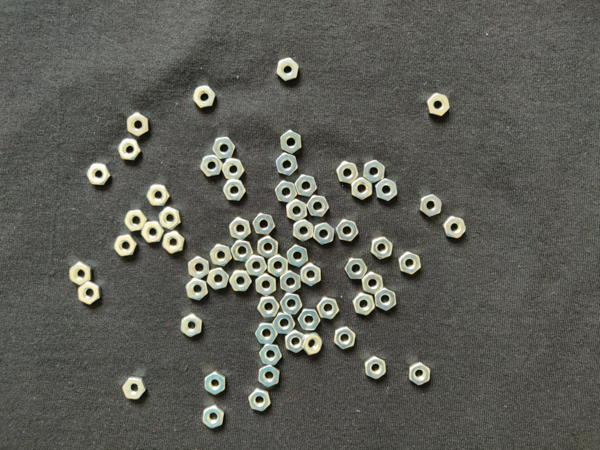nut: (123, 377, 147, 400), (427, 93, 451, 116), (398, 252, 422, 275), (78, 282, 101, 305), (162, 231, 185, 254), (193, 85, 216, 108), (248, 389, 271, 412), (336, 220, 359, 243), (336, 161, 359, 184), (375, 179, 398, 202), (70, 262, 92, 286), (87, 164, 111, 186), (141, 222, 165, 244), (230, 240, 254, 262), (276, 153, 298, 177), (409, 362, 431, 386), (363, 160, 385, 184), (443, 217, 467, 239), (203, 405, 224, 430), (114, 235, 137, 257), (118, 139, 141, 161), (125, 209, 148, 231), (180, 315, 202, 338), (186, 278, 208, 301), (188, 256, 210, 279), (200, 155, 223, 177), (222, 158, 245, 180), (223, 180, 246, 202), (207, 268, 230, 290), (210, 245, 233, 267), (229, 270, 252, 292), (245, 255, 268, 277), (281, 293, 303, 316), (273, 313, 296, 335), (298, 309, 321, 331), (277, 58, 299, 81), (275, 181, 298, 203), (313, 223, 335, 246), (317, 298, 340, 320), (334, 327, 356, 350), (364, 357, 386, 380), (353, 293, 375, 316), (362, 272, 384, 295), (351, 177, 373, 200), (420, 195, 442, 218), (127, 113, 148, 137), (281, 130, 302, 154), (287, 244, 308, 268), (159, 208, 181, 230), (213, 137, 235, 159), (229, 218, 251, 240), (258, 366, 280, 388), (253, 214, 275, 236), (301, 333, 323, 355), (295, 175, 317, 197), (307, 195, 329, 217), (371, 237, 393, 259), (147, 185, 170, 206), (259, 345, 282, 366), (255, 324, 278, 345), (257, 297, 280, 318), (280, 271, 301, 294), (345, 259, 368, 280), (375, 288, 396, 311), (268, 254, 288, 278), (301, 263, 321, 287), (255, 274, 276, 296), (287, 200, 308, 222), (293, 220, 314, 242), (205, 372, 225, 395), (285, 330, 305, 353), (257, 237, 278, 258)
